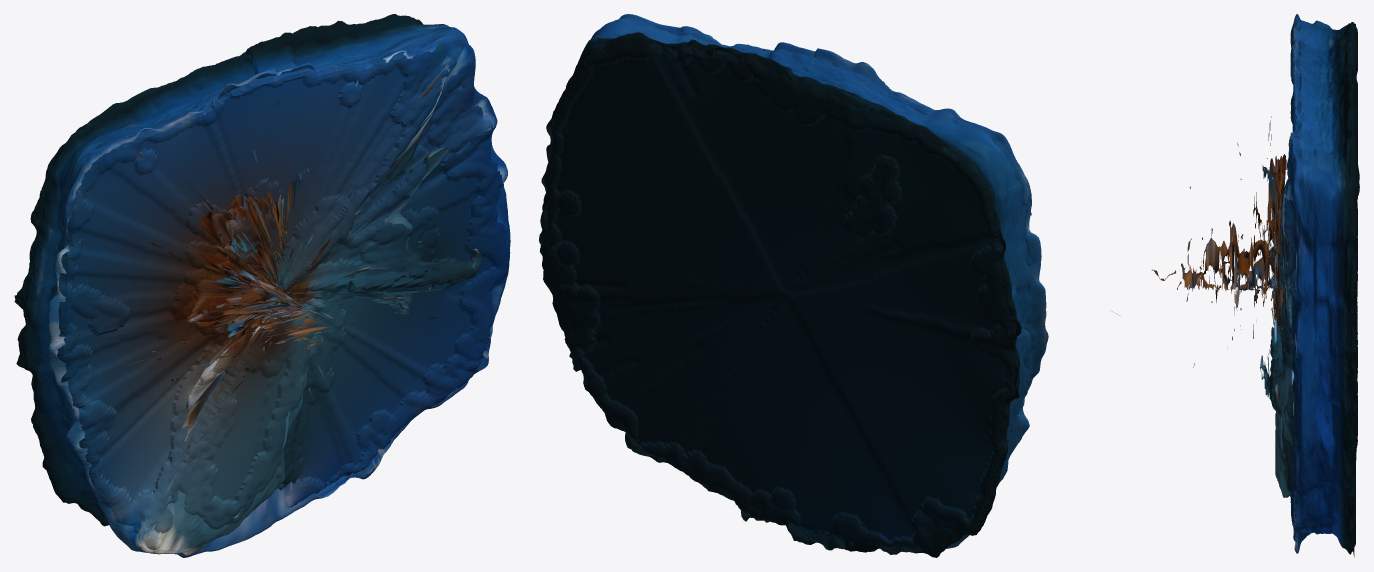
The model's file is volume2_mesh.glb.
The picture shows the model from 3 angles, left to right: view 1: azimuth 30°, elevation 25°; view 2: azimuth 150°, elevation 25°; view 3: azimuth 270°, elevation 25°; orthographic projection. The views are drawn at different scales.
Parts seen in each view (by area): view 1: fill, ipn; view 2: fill, ipn; view 3: ipn, fill.
Boxes of the visible parts, bbox=[...] form: fill: bbox=[23, 20, 509, 549]; ipn: bbox=[14, 14, 510, 557]; fill: bbox=[542, 26, 1036, 549]; ipn: bbox=[539, 14, 1119, 557]; ipn: bbox=[1151, 14, 1356, 557]; fill: bbox=[1269, 24, 1359, 549].
Bounding box in the file's own units: 1.76 × 1.64 × 0.6396.
2 materials, 1 textured.
